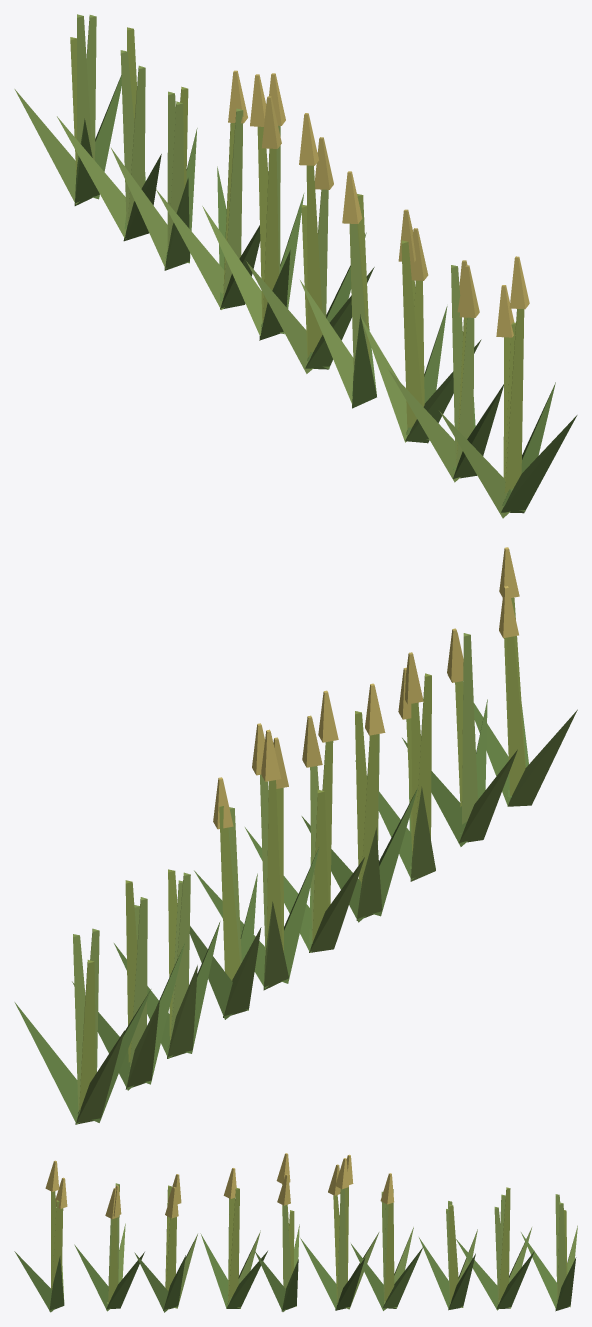
File: cover_barley_row.glb
The picture shows the model from 3 angles, top to bottom: view 1: azimuth 30°, elevation 25°; view 2: azimuth 150°, elevation 25°; view 3: azimuth 270°, elevation 25°; orthographic projection. The views are drawn at different scales.
Parts seen in each view (by area): view 1: cover_barley_row; view 2: cover_barley_row; view 3: cover_barley_row.
Part boxes in pixels (x1,y1,x2,y2): cover_barley_row: (14, 14, 577, 518); cover_barley_row: (14, 547, 577, 1124); cover_barley_row: (14, 1153, 577, 1312).
Size of the model in its own units: 0.5744 by 1.1 by 3.66.
